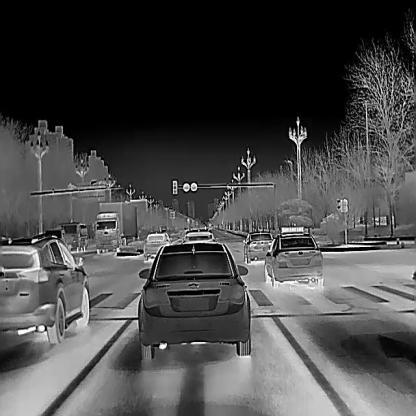car: (136, 240, 251, 359), (0, 233, 89, 343), (264, 225, 323, 286), (94, 202, 137, 253), (243, 231, 276, 262), (60, 221, 87, 252), (143, 231, 170, 260), (180, 226, 219, 244)
